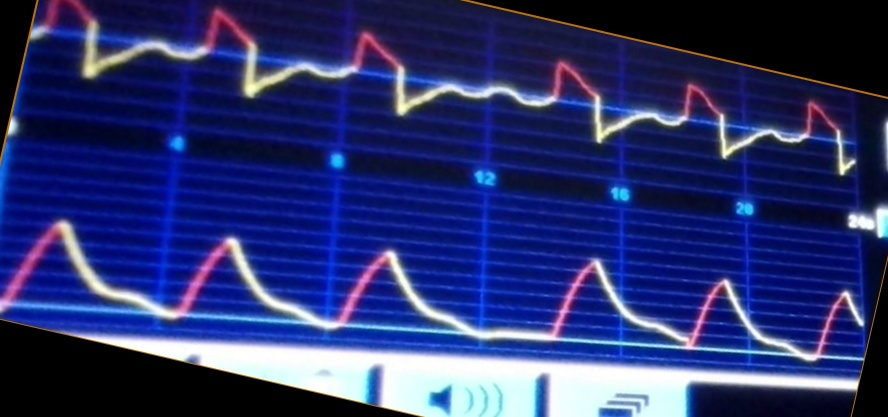Ineffective_effort Flow: (33, 1, 857, 171)
Ineffective_effort Volume: (4, 216, 861, 362)
